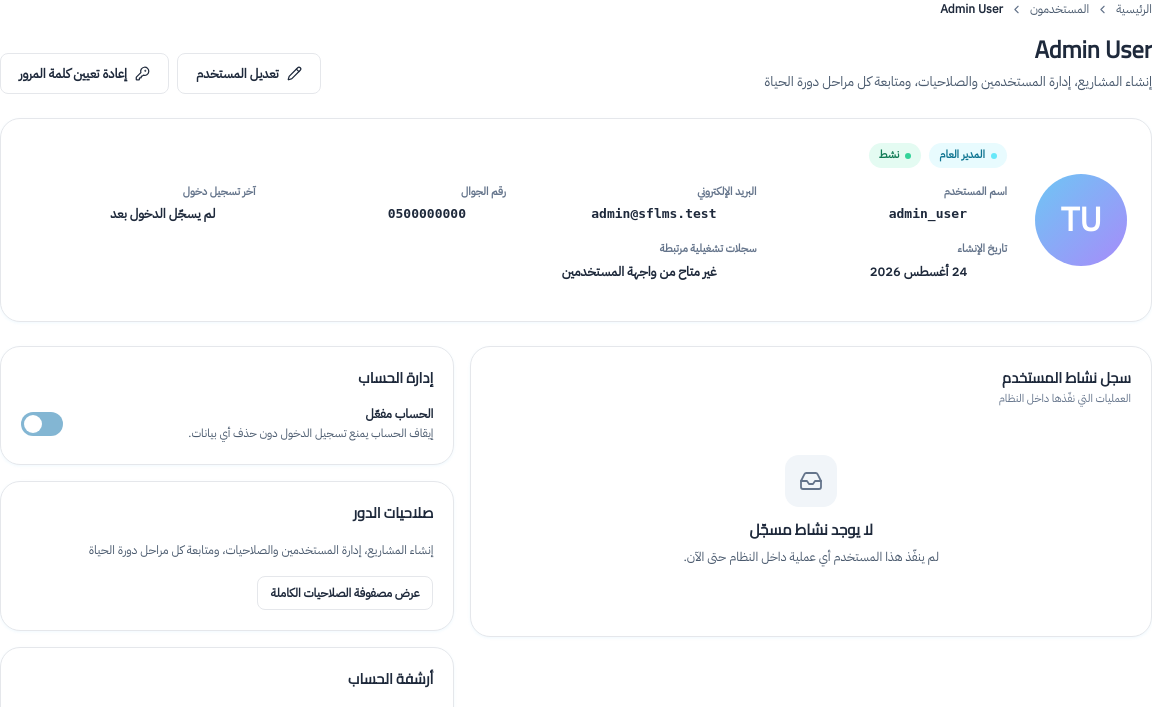
Scenario: AdminUserDetailPage › makes the current Super Admin role, status, and archive actions immutable
This screenshot has width=1152, height=707.
Expected: the switch named "تفعيل أو إيقاف الحساب" is disabled, x1=21 y1=412 x2=63 y2=436
Click the button "تعديل المستخدم" at x=249, y=74, box x1=177 y1=53 x2=321 y2=94
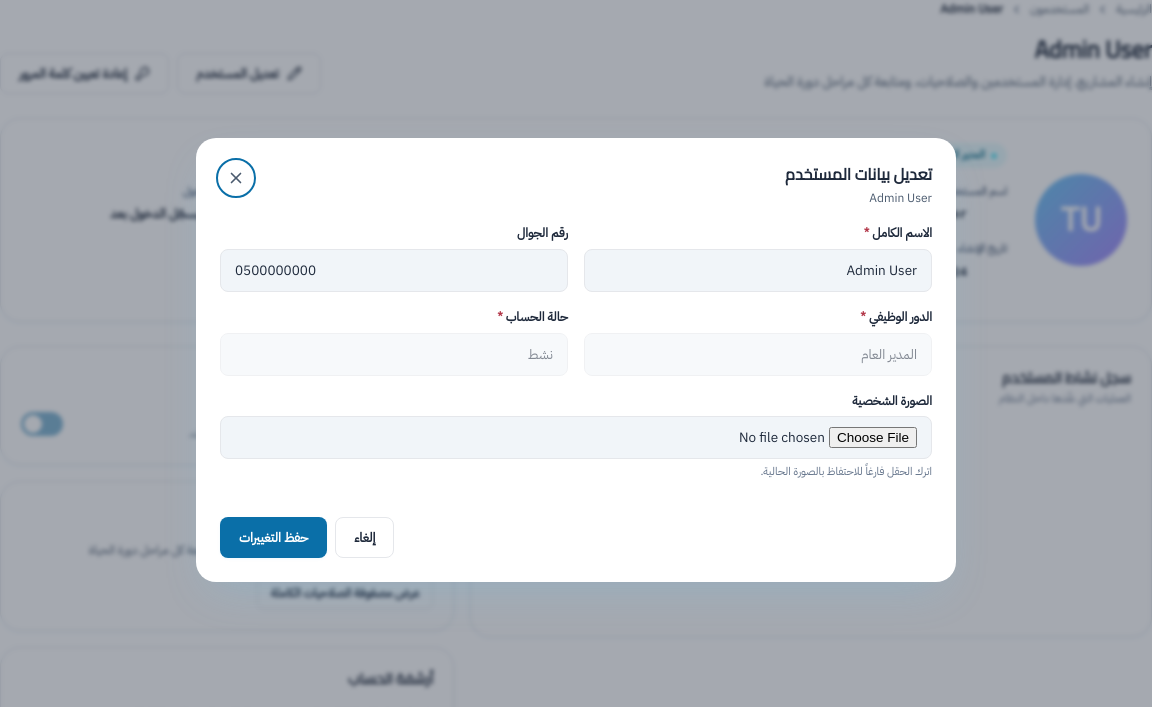
Expected: the field labelled "الدور الوظيفي*" is disabled, x1=584 y1=333 x2=932 y2=376
Expected: the field labelled "حالة الحساب*" is disabled, x1=220 y1=333 x2=568 y2=376
